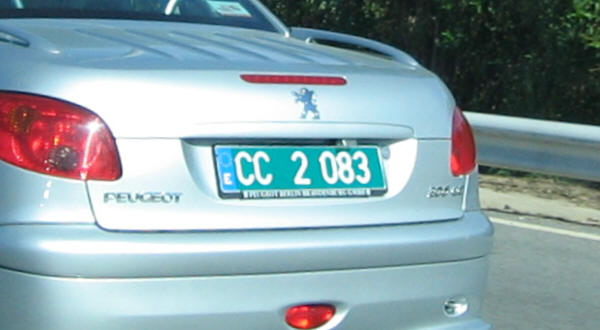license_plate: (211, 143, 386, 192)
